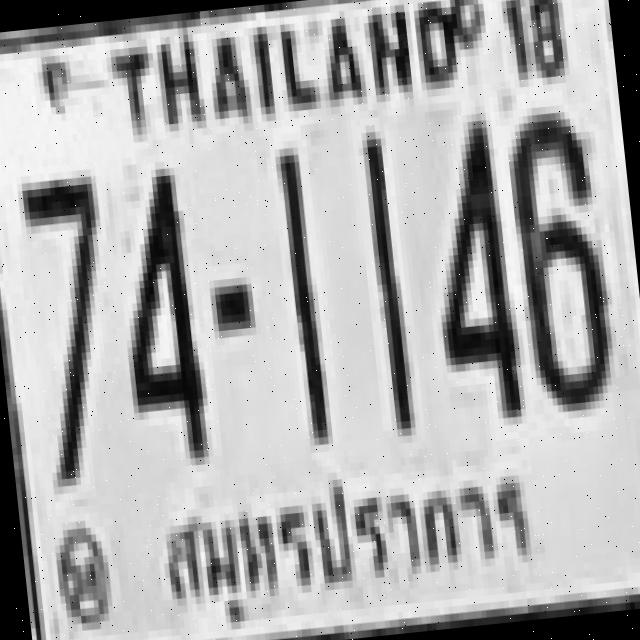1: (356, 128, 410, 434), (274, 144, 328, 442)
4: (416, 112, 520, 416), (104, 163, 208, 460)
6: (500, 102, 610, 408)
7: (15, 168, 121, 481)
SamutPrakan: (148, 453, 546, 639)
